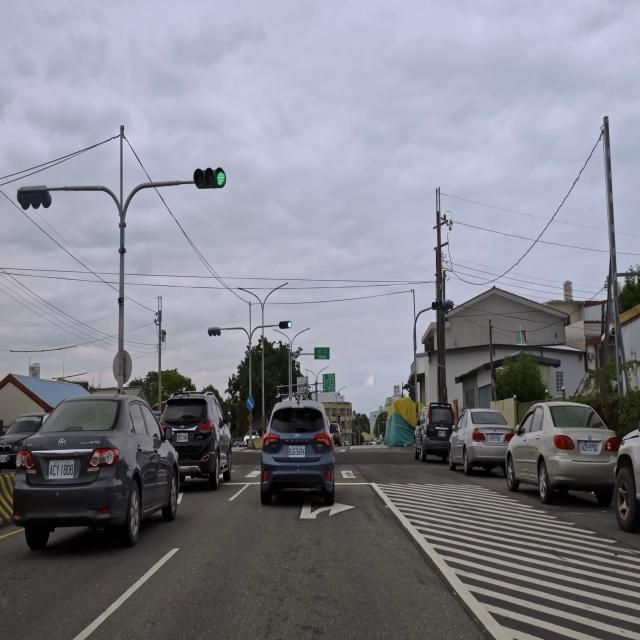green light: (192, 167, 227, 189), (278, 321, 292, 329)
